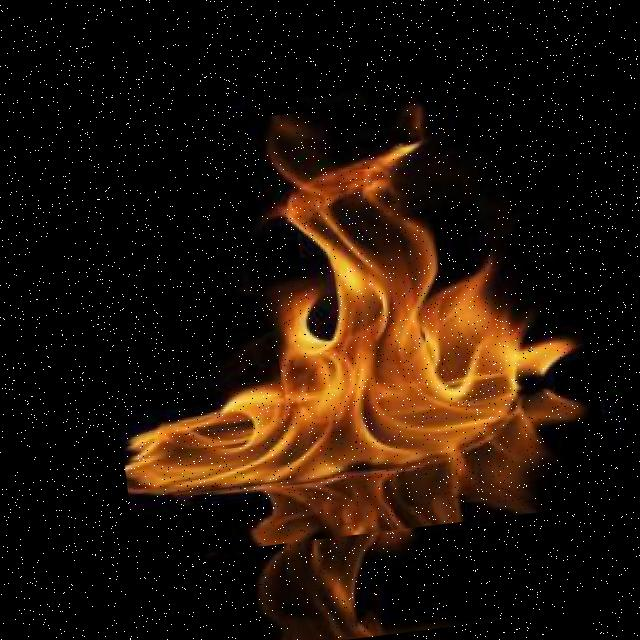fire: (85, 80, 612, 561)
